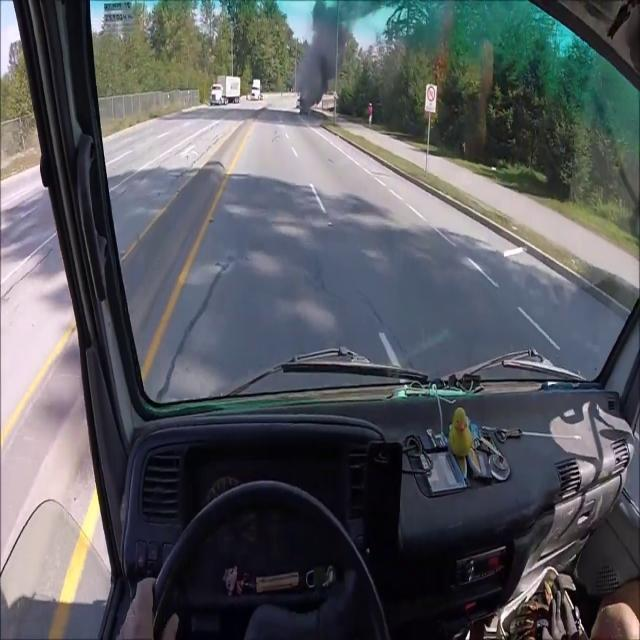Smoke: (295, 0, 378, 91)
